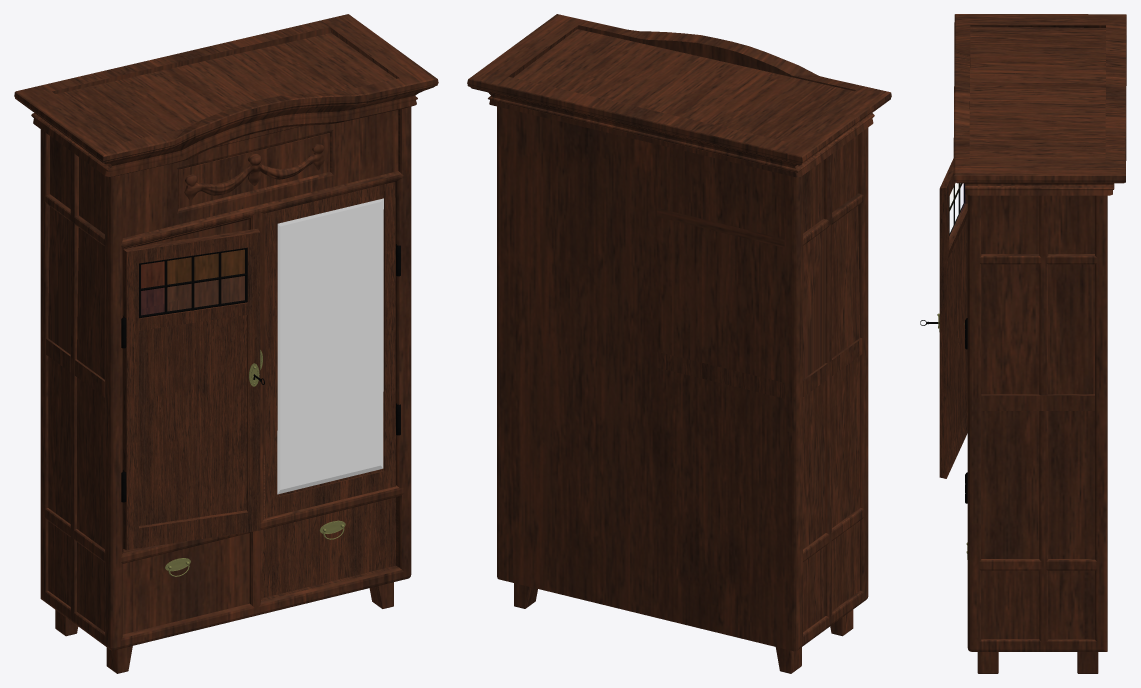
The model's file is Closet_1.glb.
The picture shows the model from 3 angles, left to right: view 1: azimuth 30°, elevation 25°; view 2: azimuth 150°, elevation 25°; view 3: azimuth 270°, elevation 25°; orthographic projection. The views are drawn at different scales.
Visible parts, largest first — view 1: Ombouw_2, DeurL_3, Spiegel_8, Deur.R_0, Scharnieren_4; view 2: Ombouw_2; view 3: Ombouw_2, DeurL_3.
Boxes of the visible parts, x1=… form: Ombouw_2: x1=14, y1=14, x2=438, y2=673; DeurL_3: x1=123, y1=228, x2=260, y2=549; Spiegel_8: x1=280, y1=202, x2=380, y2=489; Deur.R_0: x1=265, y1=182, x2=395, y2=518; Scharnieren_4: x1=121, y1=244, x2=400, y2=502; Ombouw_2: x1=467, y1=14, x2=891, y2=673; Ombouw_2: x1=953, y1=14, x2=1126, y2=673; DeurL_3: x1=939, y1=158, x2=967, y2=478.
Size of the model in its own units: 1.14 by 1.76 by 0.6244.
Materials: 6 (4 with a texture image).
